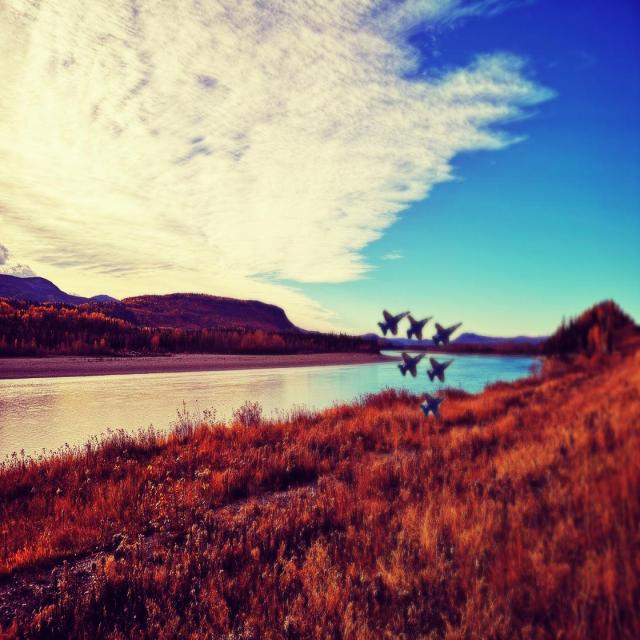airplane: (430, 319, 462, 348), (377, 308, 410, 336), (396, 350, 426, 377), (426, 356, 454, 382), (406, 313, 432, 340), (419, 392, 445, 418)
